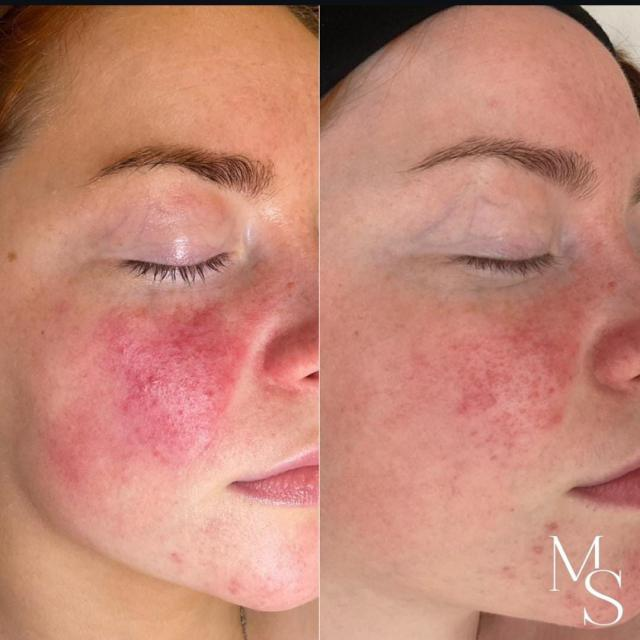Rosacea: (94, 313, 248, 456), (453, 336, 562, 442)
